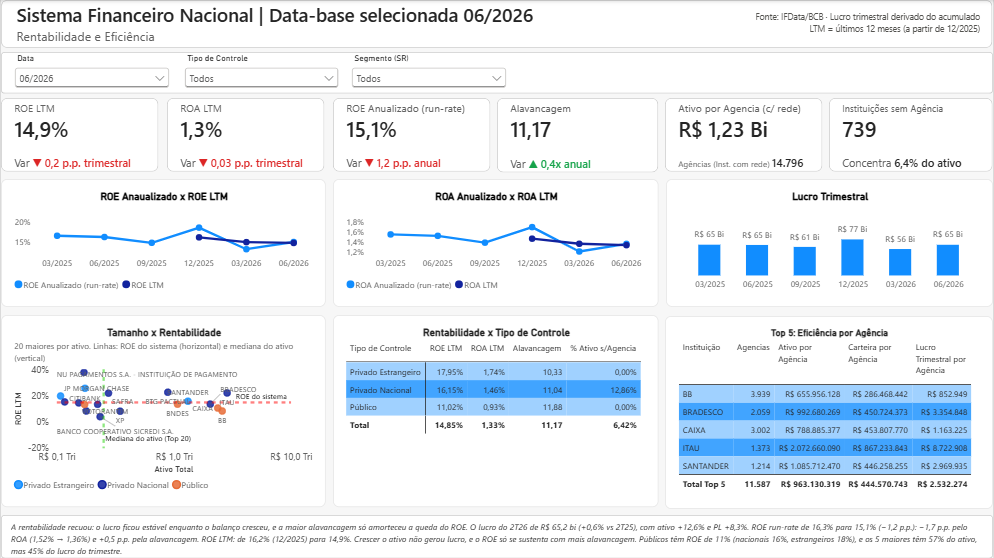

This screenshot's page, from the dashboard's own definition file:
{"tool":"powerbi","page":{"name":"Rentabilidade e Eficiência","canvas":[1280,720],"ordinal":2},"visuals":[{"type":"shape","box":[0,664,1280,56],"z":0},{"type":"shape","box":[0,0,1279.1,61.8],"z":1000},{"type":"shape","box":[0,66.7,1280,53.6],"z":2000},{"type":"cardVisual","fields":{"Data":["_Medidas.Titulo Pagina"]},"box":[3.8,0,723.8,61.2],"z":3000},{"type":"textbox","box":[1695,30,213.8,46.2],"z":4000},{"type":"cardVisual","fields":{"Data":["_Medidas.ROE LTM"]},"box":[-0.1,126.5,203.9,95.5],"z":5000},{"type":"cardVisual","fields":{"Data":["_Medidas.ROA LTM"]},"box":[214.3,126.4,203.6,95.7],"z":6000},{"type":"cardVisual","fields":{"Data":["_Medidas.ROE Anualizado (run-rate)"]},"box":[428.4,126.5,203.9,95.5],"z":7000},{"type":"cardVisual","fields":{"Data":["_Medidas.Alavancagem"]},"box":[640,126.2,208.5,96.2],"z":8000},{"type":"cardVisual","fields":{"Data":["_Medidas.Instituições sem Agência"]},"box":[1068.9,126.7,211.1,95.6],"z":9000},{"type":"lineChart","title":"ROE Anaualizado x ROE LTM","fields":{"Category":["dim_calendario.Rotulo"],"Y":["_Medidas.ROE Anualizado (run-rate)","_Medidas.ROE LTM"]},"box":[0,230.9,419.1,165.5],"z":10000},{"type":"lineChart","title":"ROA Anualizado x ROA LTM","fields":{"Category":["dim_calendario.Rotulo"],"Y":["_Medidas.ROA Anualizado (run-rate)","_Medidas.ROA LTM"]},"box":[428.5,230.8,420,165.4],"z":11000},{"type":"pivotTable","title":"Rentabilidade x Tipo de Controle","fields":{"Rows":["fato_ifdata.Tipo de Controle"],"Values":["_Medidas.ROE LTM","_Medidas.ROA LTM","_Medidas.Alavancagem","_Medidas.% Ativo sem Agencia"]},"box":[428.5,406.9,420,248.5],"z":12000},{"type":"textbox","box":[13,672,1254,47],"z":13000},{"type":"textbox","box":[958.8,13.7,304.7,47.3],"z":14000},{"type":"cardVisual","fields":{"Data":["_Medidas.Ativo por Agencia (inst. com rede)"]},"box":[856.8,126.5,203.3,95.6],"z":15000},{"type":"slicer","fields":{"Values":["fato_ifdata.Tipo de Controle"]},"box":[231.8,68.5,208.2,51.8],"z":16000},{"type":"slicer","fields":{"Values":["fato_ifdata.Segmento (SR)"]},"box":[447.3,68.5,209.1,51.8],"z":17000},{"type":"slicer","fields":{"Values":["dim_calendario.Rotulo"]},"box":[12.7,68.5,209.1,51.8],"z":18000},{"type":"clusteredColumnChart","title":"Lucro Trimestral","fields":{"Category":["dim_calendario.Rotulo"],"Y":["_Medidas.Lucro Trimestral"]},"box":[858.2,230.9,421.8,165.5],"z":19000},{"type":"tableEx","title":"Top 5: Eficiência por Agência","fields":{"Values":["dim_instituicao.Instituição","_Medidas.Agencias","_Medidas.Ativo por Agência","_Medidas.Carteira por Agência","_Medidas.Lucro Trimestral por Agência"]},"box":[857.3,407.3,422.7,249.1],"z":20000},{"type":"scatterChart","title":"Tamanho x Rentabilidade","fields":{"Category":["dim_instituicao.Instituição"],"Series":["fato_ifdata.Tipo de Controle"],"X":["_Medidas.Ativo Total"],"Y":["_Medidas.ROE LTM (scatter)"]},"box":[0,406.9,419.2,248.5],"z":21000}]}

Visuals, with their boxes in screenshot pixels (x1, y1, x2, y2), scaled from the page's 1280x720 canvas onto the 994x558 screenshot:
shape: (0,515,993,557)
shape: (0,0,993,48)
shape: (0,52,993,93)
cardVisual - _Medidas.Titulo Pagina: (3,0,565,47)
cardVisual - _Medidas.ROE LTM: (0,98,158,172)
cardVisual - _Medidas.ROA LTM: (166,98,325,172)
cardVisual - _Medidas.ROE Anualizado (run-rate): (333,98,491,172)
cardVisual - _Medidas.Alavancagem: (497,98,659,172)
cardVisual - _Medidas.Instituições sem Agência: (830,98,993,172)
"ROE Anaualizado x ROE LTM" lineChart: (0,179,325,307)
"ROA Anualizado x ROA LTM" lineChart: (333,179,659,307)
"Rentabilidade x Tipo de Controle" pivotTable: (333,315,659,508)
textbox: (10,521,984,557)
textbox: (745,11,981,47)
cardVisual - _Medidas.Ativo por Agencia (inst. com rede): (665,98,823,172)
slicer - fato_ifdata.Tipo de Controle: (180,53,342,93)
slicer - fato_ifdata.Segmento (SR): (347,53,510,93)
slicer - dim_calendario.Rotulo: (10,53,172,93)
"Lucro Trimestral" clusteredColumnChart: (666,179,993,307)
"Top 5: Eficiência por Agência" tableEx: (666,316,993,509)
"Tamanho x Rentabilidade" scatterChart: (0,315,326,508)
